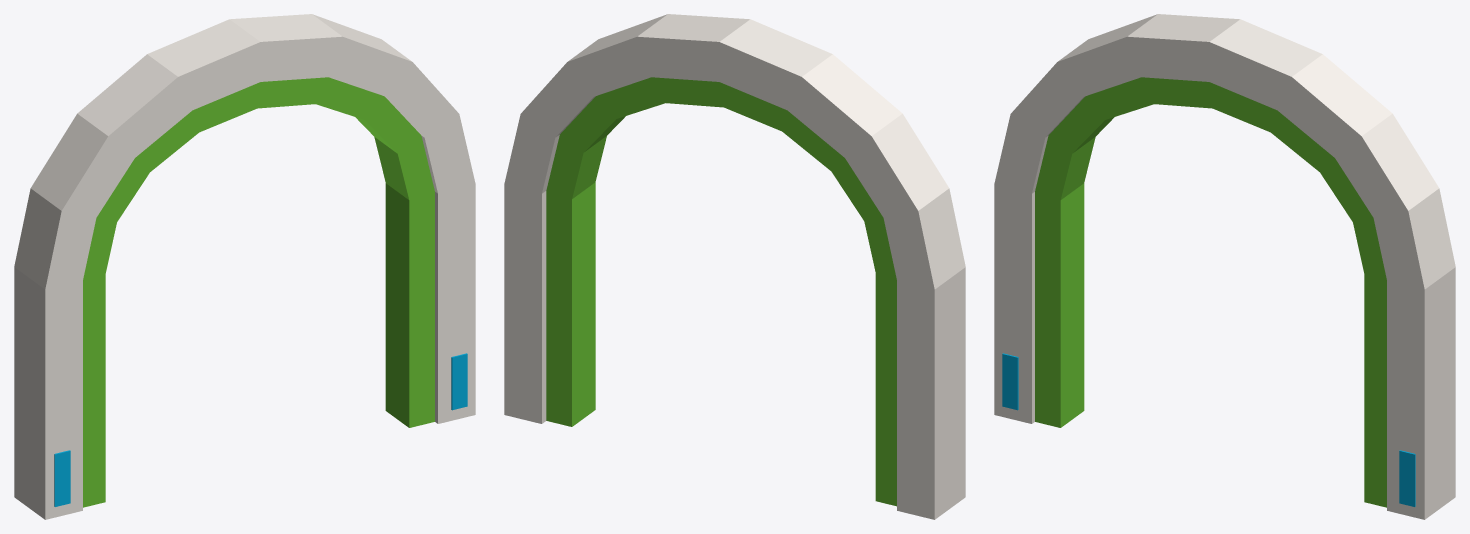
Rendered from lime_arch.glb.
3 views of the same model, side by side, from view 1: azimuth 30°, elevation 25°; view 2: azimuth 150°, elevation 25°; view 3: azimuth 330°, elevation 25° (orthographic).
Parts seen in each view (by area): view 1: frutiger_aero_lime_arch; view 2: frutiger_aero_lime_arch; view 3: frutiger_aero_lime_arch.
Part boxes in pixels (x1=…): frutiger_aero_lime_arch: x1=14, y1=14, x2=475, y2=519; frutiger_aero_lime_arch: x1=504, y1=14, x2=965, y2=519; frutiger_aero_lime_arch: x1=994, y1=14, x2=1455, y2=519.
Bounding box in the file's own units: 3.6 × 3.4 × 0.463.
3 materials, 3 textured.
